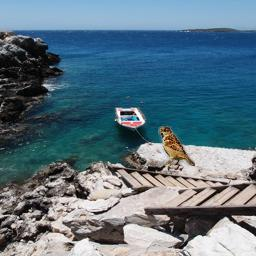Sparrow: (158, 126, 195, 166)
